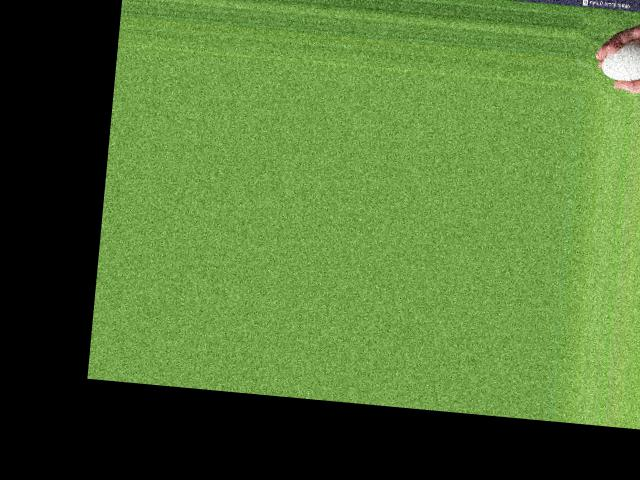egg: (601, 35, 640, 83)
